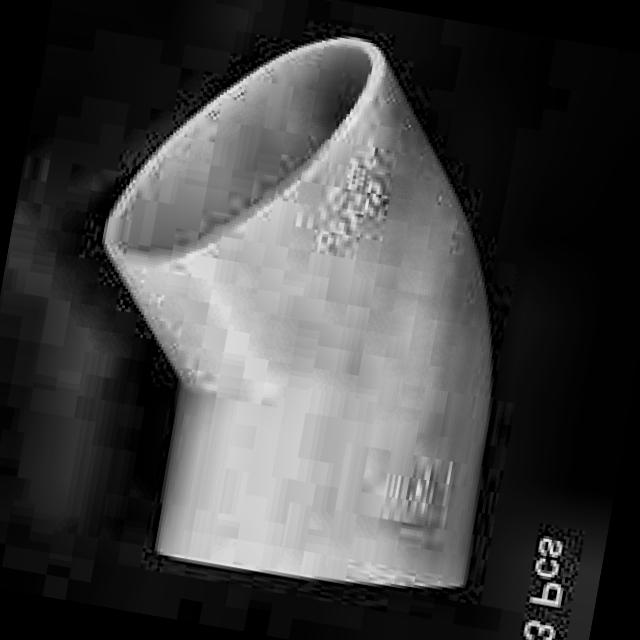ELBOW45: (100, 31, 493, 591)
